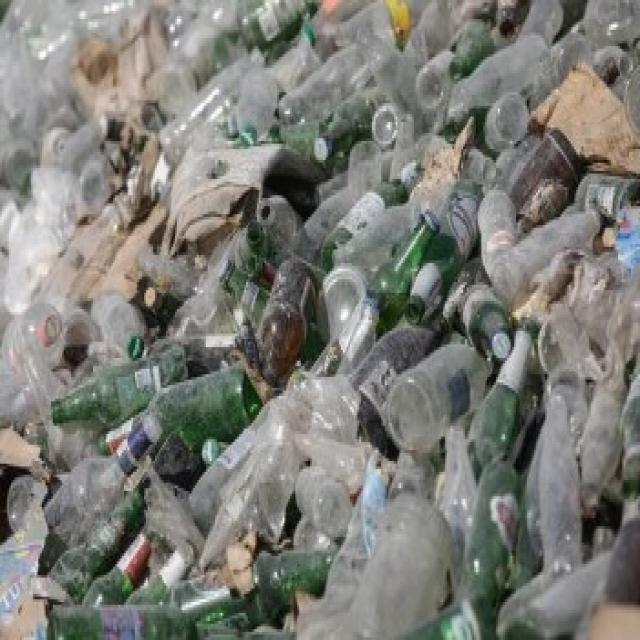electronic: (0, 114, 640, 554)
